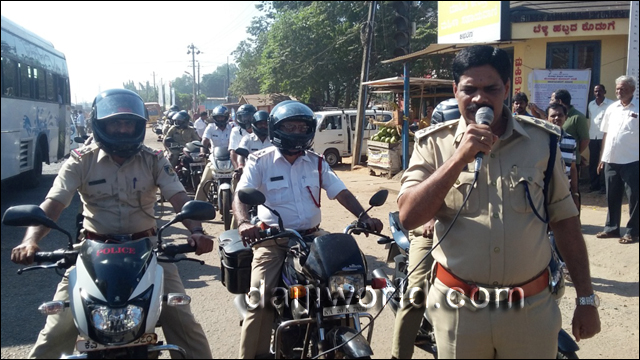helmet: (90, 88, 152, 153), (266, 97, 317, 151), (210, 104, 234, 124), (169, 106, 193, 126)
